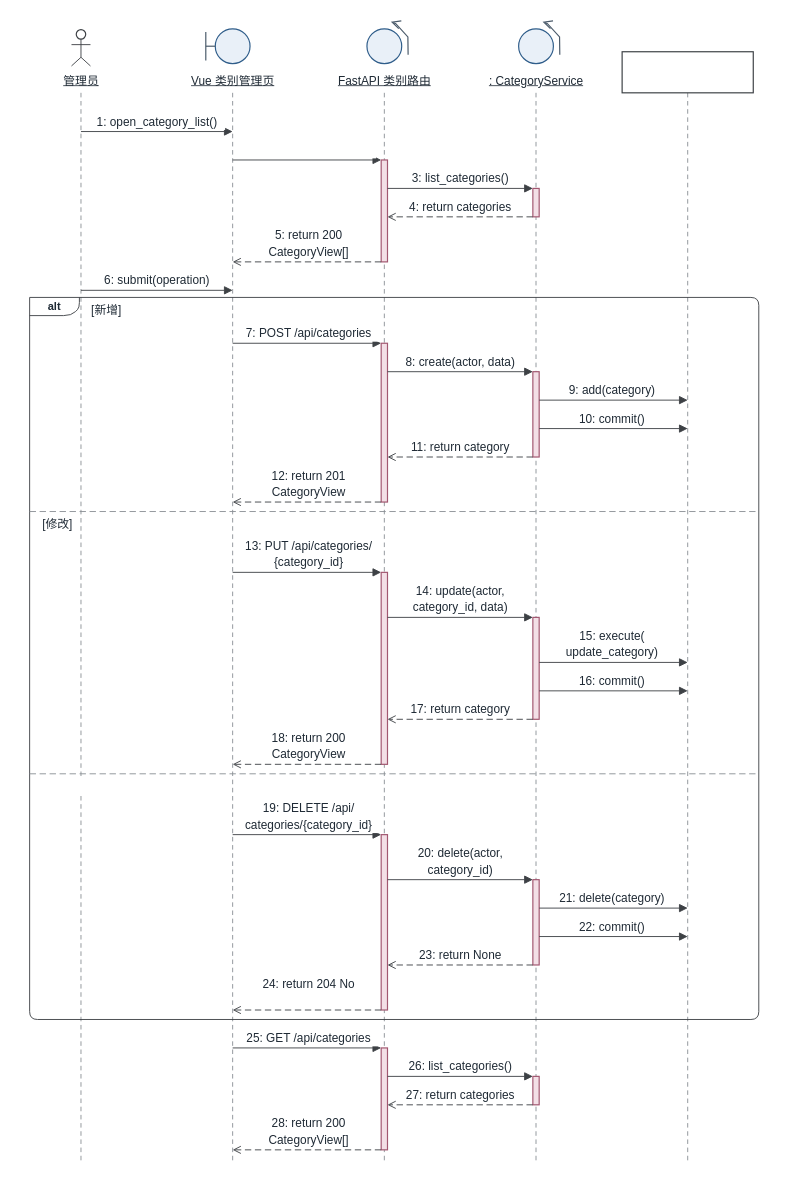
Image size: 788x1193. Some labels were removed from this diagram. The centre of each missing label's shape, as x and y in pixels:
"2: GET /api/categories" belongs at [308,149].
": Session SQLAlchemy" belongs at [687,72].
"[删除未被相册引用的类别]" belongs at [110,785].
"Content" belongs at [308,999].
